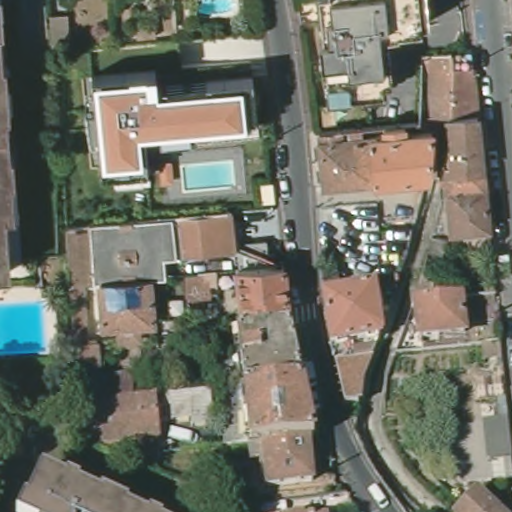pool: (1, 298, 52, 359), (177, 158, 242, 193), (192, 1, 241, 16)
